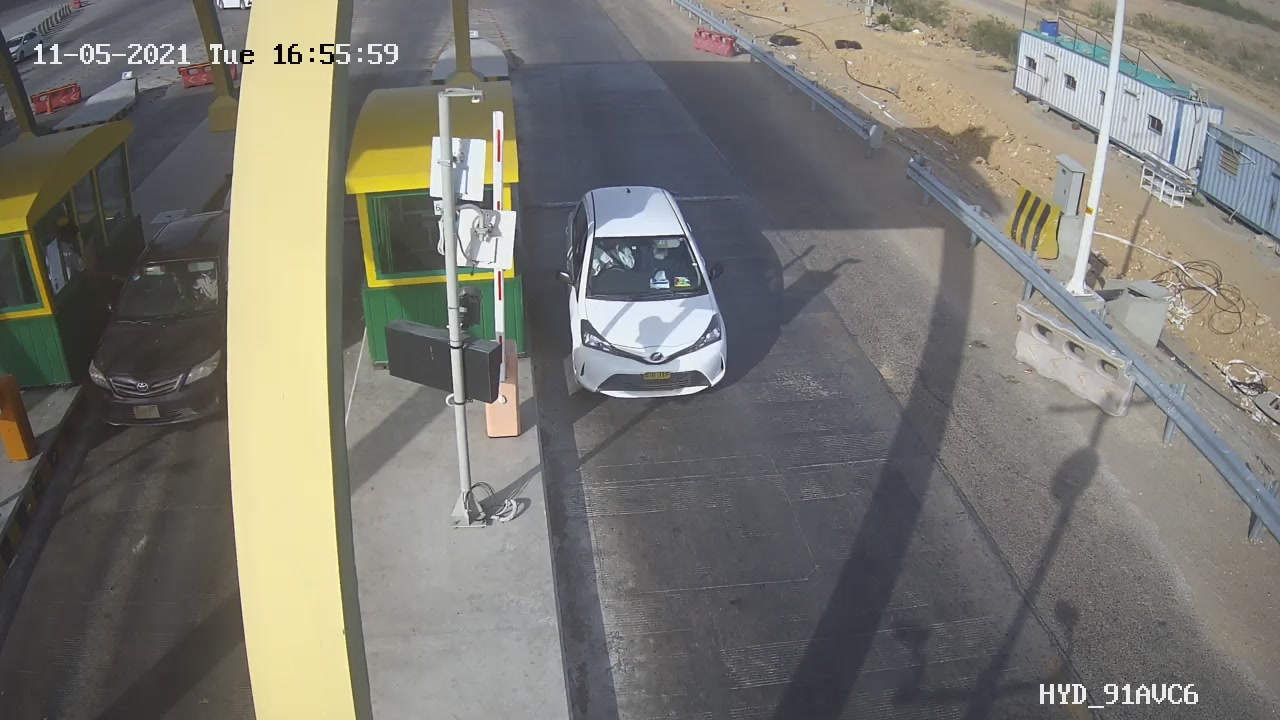F1: (538, 170, 747, 417)
